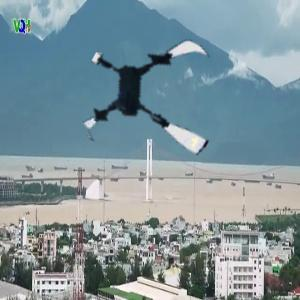drone: (83, 27, 226, 170)
